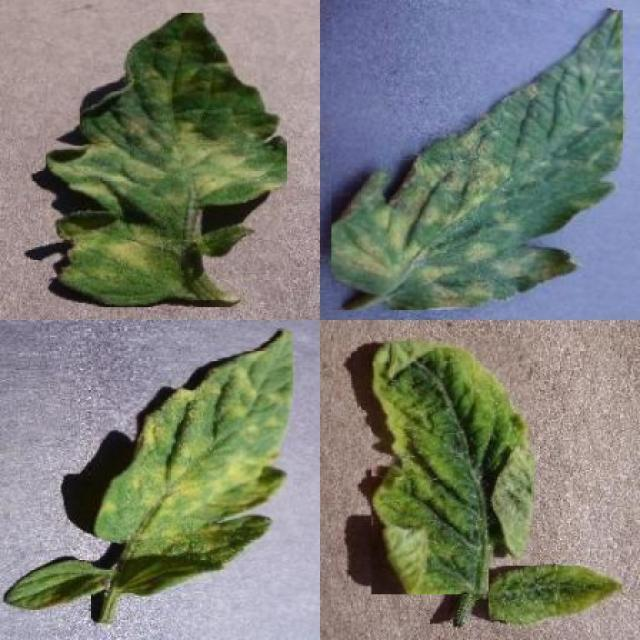Leaf Mold: (332, 10, 624, 310), (46, 13, 287, 308), (93, 330, 293, 597)
Yellow Leaf Curl Virus: (372, 338, 534, 595), (488, 566, 622, 620)
